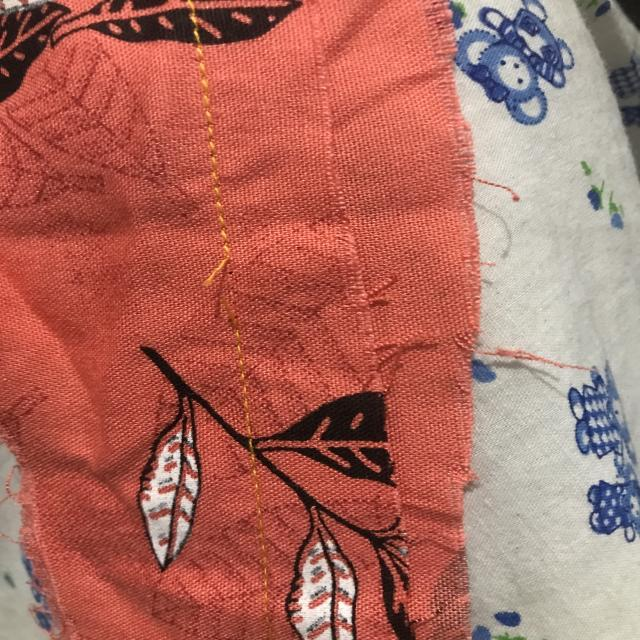broken: (170, 225, 262, 338)
good: (188, 104, 236, 206)
